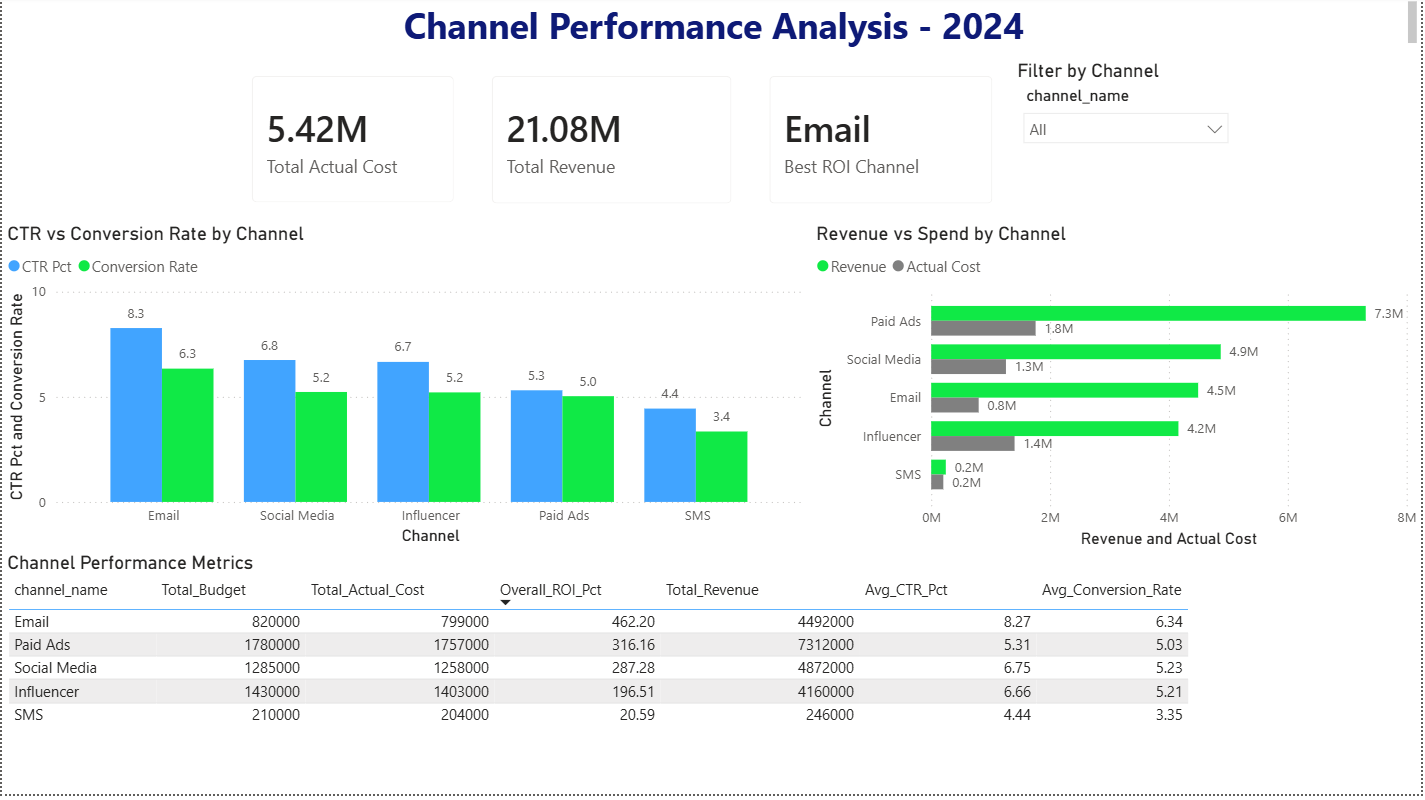

The dashboard page shown, as its layout file describes it:
{"tool":"powerbi","page":{"name":"Channel Analysis","canvas":[1280,720],"ordinal":1},"visuals":[{"type":"textbox","box":[9.8,0,1270.5,57.5],"z":0},{"type":"cardVisual","fields":{"Data":["Sum(Channel_ROI.Total_Actual_Cost)"]},"box":[208.5,55.2,216.4,148.8],"z":1000},{"type":"cardVisual","fields":{"Data":["Sum(Channel_ROI.Total_Revenue)"]},"box":[424.9,55.2,250.2,149.9],"z":2000},{"type":"cardVisual","fields":{"Data":["Min(Channel_ROI.channel_name)"]},"box":[675.1,55.2,235.6,149.9],"z":3000},{"type":"tableEx","title":"Channel Performance Metrics","fields":{"Values":["Channel_ROI.channel_name","Channel_ROI.Total_Budget","Channel_ROI.Total_Actual_Cost","Channel_ROI.Overall_ROI_Pct","Channel_ROI.Total_Revenue","Channel_ROI.Avg_CTR_Pct","Channel_ROI.Avg_Conversion_Rate"]},"box":[0,500.1,1280.3,220.1],"z":4000},{"type":"clusteredColumnChart","title":"CTR vs Conversion Rate by Channel","fields":{"Category":["Channel_ROI.channel_name"],"Y":["Sum(Channel_ROI.Avg_CTR_Pct)","Sum(Channel_ROI.Avg_Conversion_Rate)"]},"box":[0,204.2,728.8,295.9],"z":5000},{"type":"clusteredBarChart","title":"Revenue vs Spend by Channel ","fields":{"Category":["Channel_ROI.channel_name"],"Y":["Sum(Channel_ROI.Total_Revenue)","Sum(Channel_ROI.Total_Actual_Cost)"]},"box":[728.8,204.2,551.5,298.4],"z":6000},{"type":"slicer","title":"Filter by Channel","fields":{"Values":["Channel_ROI.channel_name"]},"box":[910.7,57.5,205.1,148.8],"z":7000}]}

Visuals, with their boxes in screenshot pixels (x1, y1, x2, y2), scaled from the page's 1280x720 canvas onto the 1425x800 screenshot:
textbox: x1=11 y1=0 x2=1424 y2=64
cardVisual - Sum(Channel_ROI.Total_Actual_Cost): x1=232 y1=61 x2=473 y2=227
cardVisual - Sum(Channel_ROI.Total_Revenue): x1=473 y1=61 x2=752 y2=228
cardVisual - Min(Channel_ROI.channel_name): x1=752 y1=61 x2=1014 y2=228
"Channel Performance Metrics" tableEx: x1=0 y1=556 x2=1424 y2=799
"CTR vs Conversion Rate by Channel" clusteredColumnChart: x1=0 y1=227 x2=811 y2=556
"Revenue vs Spend by Channel " clusteredBarChart: x1=811 y1=227 x2=1424 y2=558
"Filter by Channel" slicer: x1=1014 y1=64 x2=1242 y2=229
